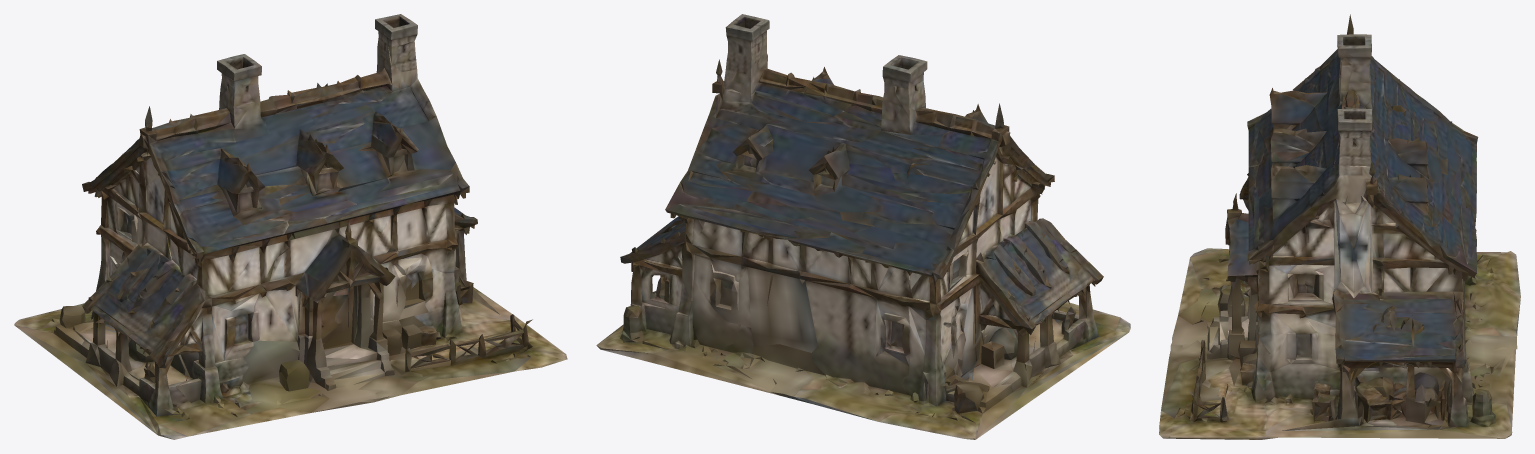
The model's file is Avonmere_House_II.glb.
3 renders of one model, left to right at view 1: azimuth 30°, elevation 25°; view 2: azimuth 150°, elevation 25°; view 3: azimuth 270°, elevation 25°, orthographic.
Visible parts, largest first — view 1: Avonmere_House_II_LOD0; view 2: Avonmere_House_II_LOD0; view 3: Avonmere_House_II_LOD0.
Part boxes in pixels (bbox=[...]): Avonmere_House_II_LOD0: bbox=[14, 14, 567, 439]; Avonmere_House_II_LOD0: bbox=[596, 14, 1130, 439]; Avonmere_House_II_LOD0: bbox=[1159, 14, 1520, 439].
Size of what is drawn, in the model's own units: 9 by 6.34 by 7.25.
1 material, 1 textured.
